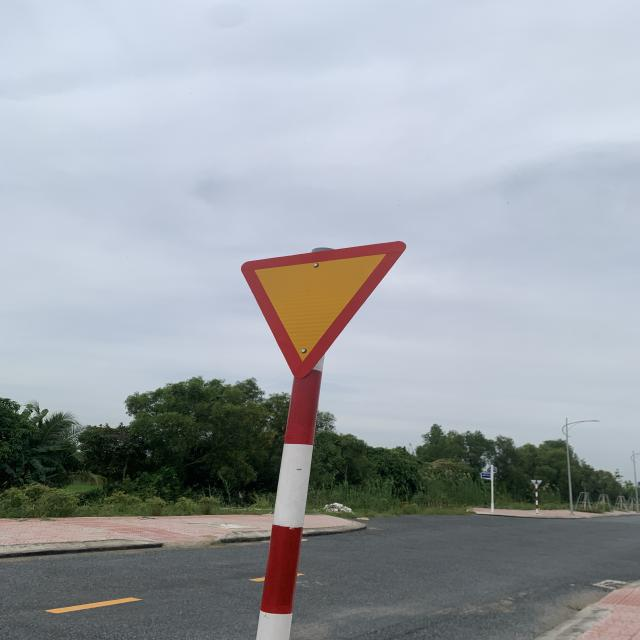Gioi_Han_Toc_Do_25: (240, 242, 408, 378)
